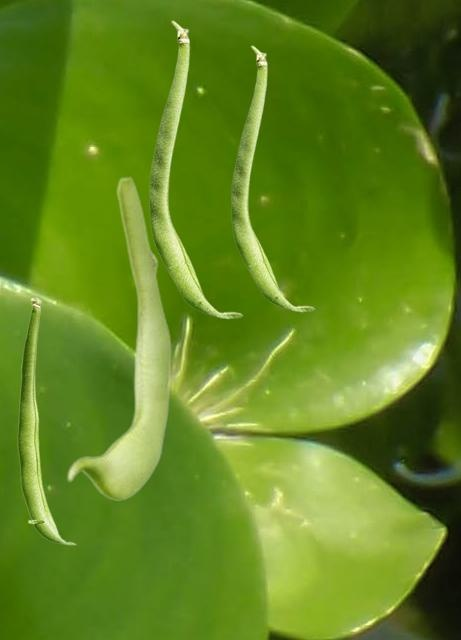french_bean: (66, 175, 170, 499), (149, 20, 242, 318), (231, 45, 314, 311), (17, 297, 76, 544)
